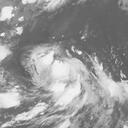cyclone: (24, 45, 104, 114)
